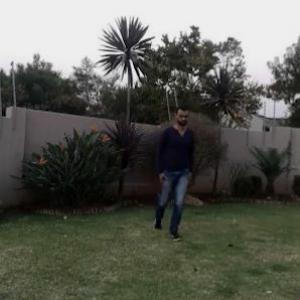follow: (156, 106, 191, 231)
